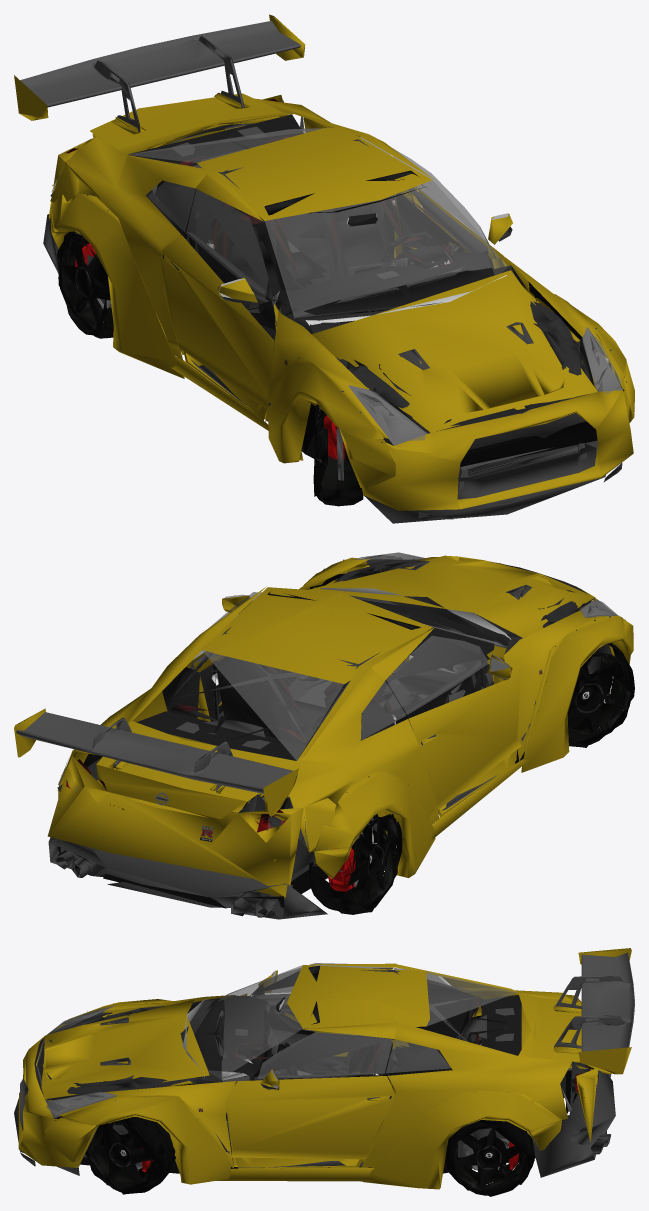
The model's file is nissan_skyline_gtr_r35_lo.glb.
The picture shows the model from 3 angles, top to bottom: view 1: azimuth 30°, elevation 25°; view 2: azimuth 150°, elevation 25°; view 3: azimuth 270°, elevation 25°; orthographic projection. The views are drawn at different scales.
Parts seen in each view (by area): view 1: r35_body, r35_hood_race, r35_bumper_F_specv, r35_windshield, r35_spoiler_LW, r35_roof_cf, r35_door_R, r35_dash_2017, r35_fenderflare_RR, r35_fenderflare_FR, r35_trunk_cf, r35_engbaycrap (+26 smaller); view 2: r35_body, r35_bumper_R_2017, r35_roof_cf, r35_hood_race, r35_spoiler_LW, r35_door_R, r35_fenderflare_RR, r35_fenderflare_FR, r35_backlight, r35_trunk_cf, r35_seat_FL_2017, r35_doorglass_R (+18 smaller); view 3: r35_body, r35_door_R.001, r35_hood_race, r35_fenderflare_RL, r35_roof_cf, r35_spoiler_LW, r35_fenderflare_FL, r35_windshield, r35_dash_2017, r35_bumper_R_2017, r35_doorglass_L, r35_bumper_F_specv (+22 smaller).
Boxes of the visible parts, x1,y1,x2,y2 form: r35_body: (50, 98, 624, 481); r35_hood_race: (312, 270, 597, 432); r35_bumper_F_specv: (361, 362, 633, 523); r35_windshield: (265, 180, 507, 317); r35_spoiler_LW: (14, 14, 305, 134); r35_roof_cf: (197, 127, 431, 220); r35_door_R: (161, 235, 281, 420); r35_dash_2017: (275, 243, 494, 323); r35_fenderflare_RR: (50, 192, 184, 378); r35_fenderflare_FR: (267, 357, 397, 488); r35_trunk_cf: (90, 93, 292, 154); r35_engbaycrap: (282, 265, 597, 431); r35_body: (57, 583, 524, 893); r35_bumper_R_2017: (47, 756, 330, 919); r35_roof_cf: (201, 587, 432, 684); r35_hood_race: (309, 555, 594, 637); r35_spoiler_LW: (14, 708, 298, 816); r35_door_R: (408, 649, 521, 816); r35_fenderflare_RR: (314, 771, 435, 878); r35_fenderflare_FR: (521, 616, 633, 772); r35_backlight: (201, 649, 343, 760); r35_trunk_cf: (96, 721, 296, 819); r35_seat_FL_2017: (211, 656, 326, 739); r35_doorglass_R: (386, 635, 488, 714); r35_body: (54, 963, 589, 1173); r35_door_R.001: (225, 1066, 394, 1168); r35_hood_race: (41, 999, 209, 1099); r35_fenderflare_RL: (363, 1090, 561, 1189); r35_roof_cf: (287, 965, 429, 1028); r35_spoiler_LW: (553, 948, 634, 1074); r35_fenderflare_FL: (44, 1095, 231, 1184); r35_windshield: (221, 965, 302, 1078); r35_dash_2017: (194, 996, 392, 1120); r35_bumper_R_2017: (531, 994, 615, 1177); r35_doorglass_L: (258, 1032, 392, 1078); r35_bumper_F_specv: (14, 1034, 98, 1175).
Size of what is drawn, in the model's own units: 2.25 by 1.33 by 4.83.
40 materials, 17 textured.
